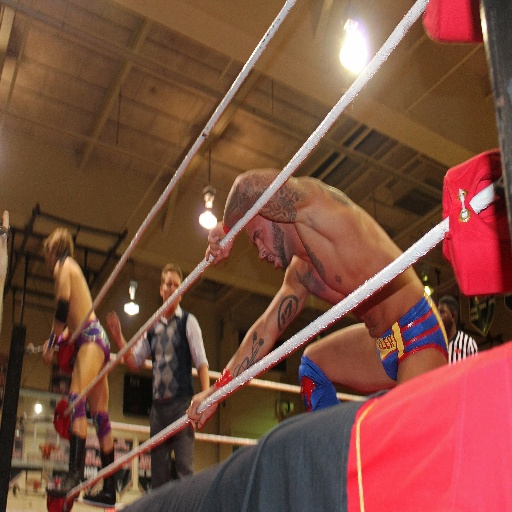hand: (185, 387, 220, 432), (206, 221, 234, 266), (105, 309, 123, 340), (42, 351, 54, 370), (41, 341, 47, 356)
